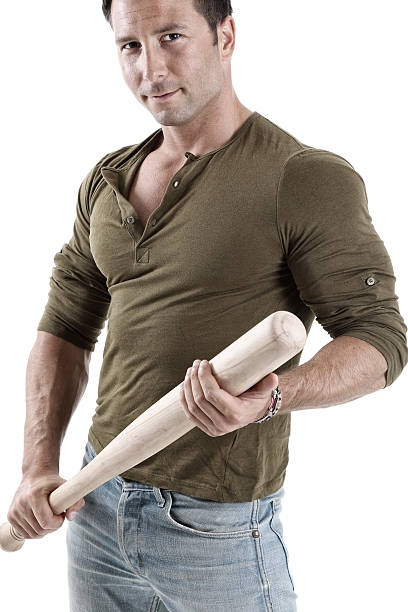bita: (1, 315, 296, 550)
